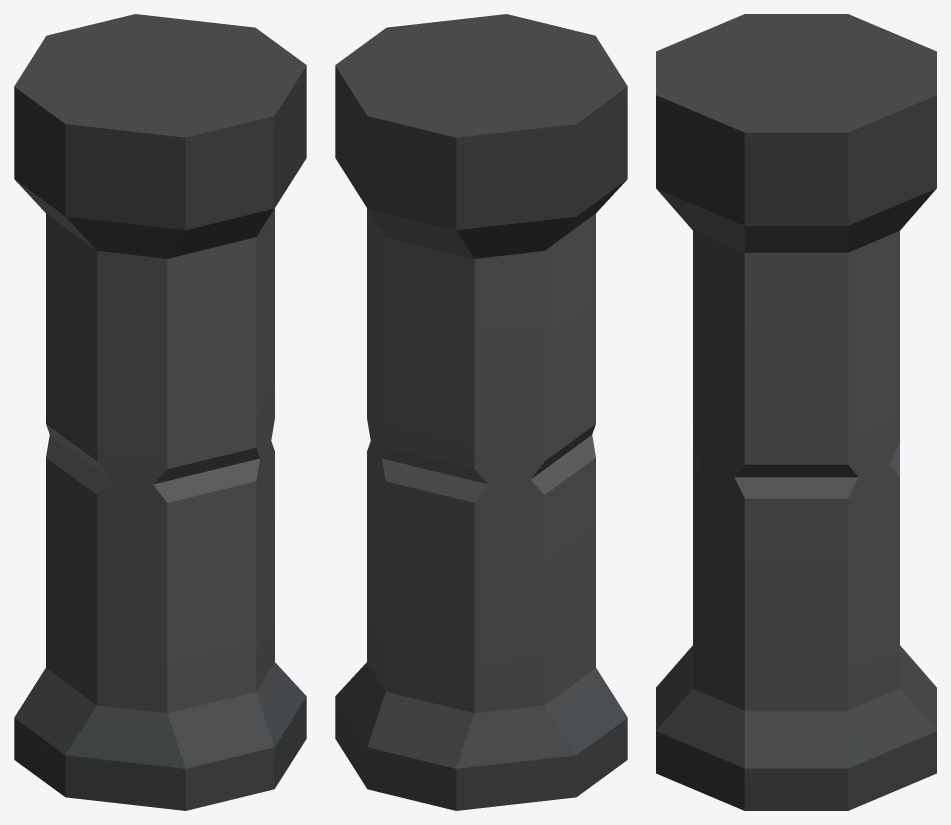
File: ignivar_pillar.glb
3 views of the same model, side by side, from view 1: azimuth 30°, elevation 25°; view 2: azimuth 150°, elevation 25°; view 3: azimuth 270°, elevation 25° (orthographic).
Parts seen in each view (by area): view 1: pillar; view 2: pillar; view 3: pillar.
Boxes of the visible parts, box(x1,y1,x2,y2) form: pillar: box(14, 14, 306, 810); pillar: box(335, 14, 627, 810); pillar: box(656, 14, 936, 810).
Size of the model in its own units: 1.5 by 4 by 1.5.
Materials: 1 (1 with a texture image).
